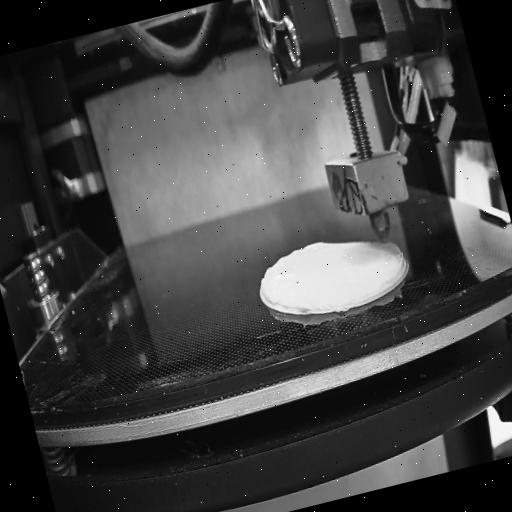over_extrusion: (250, 238, 340, 308), (372, 234, 410, 290)
